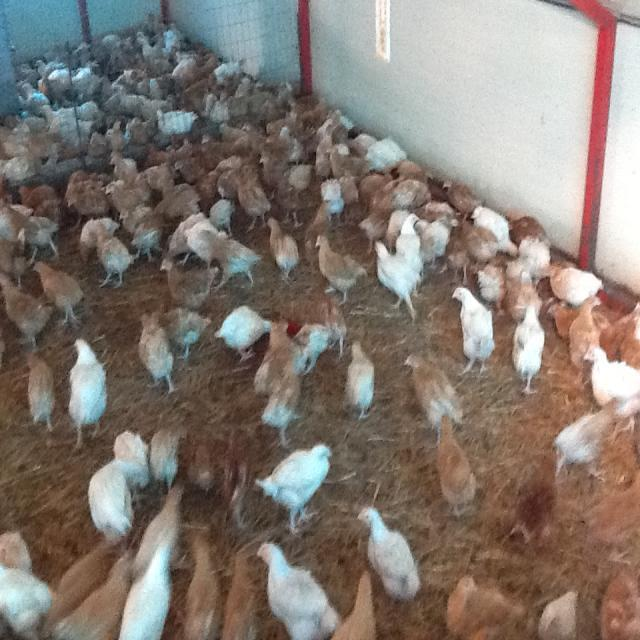poussin: (256, 540, 344, 636), (256, 442, 336, 534), (550, 397, 622, 488), (56, 556, 132, 640), (0, 528, 56, 640), (357, 506, 422, 602), (185, 434, 248, 526), (502, 453, 560, 551), (46, 536, 112, 622), (440, 573, 523, 640), (366, 180, 460, 236), (585, 342, 640, 434), (122, 544, 174, 640), (62, 332, 106, 442), (401, 354, 464, 429), (82, 464, 138, 544), (132, 482, 182, 571), (386, 214, 462, 272), (179, 537, 221, 640), (436, 412, 476, 520), (372, 239, 422, 322), (449, 286, 494, 376), (266, 347, 306, 447), (312, 232, 366, 306), (199, 230, 262, 292), (0, 274, 52, 346), (132, 313, 176, 396), (222, 542, 258, 640), (32, 259, 84, 326), (216, 308, 276, 366), (511, 302, 547, 396), (333, 565, 376, 640), (253, 315, 292, 397), (90, 222, 138, 288), (158, 259, 222, 307), (22, 351, 59, 434), (598, 568, 640, 638), (470, 200, 517, 260), (530, 586, 582, 640), (154, 308, 210, 358), (160, 213, 208, 270), (566, 296, 600, 374), (548, 297, 617, 335), (264, 216, 302, 284), (235, 164, 274, 229), (544, 262, 606, 302), (475, 245, 515, 307), (344, 342, 374, 421), (18, 204, 61, 258), (113, 429, 152, 485), (147, 428, 182, 489), (132, 210, 170, 266), (292, 322, 328, 379), (454, 216, 498, 262), (150, 184, 200, 224), (394, 212, 424, 278), (268, 172, 304, 226), (360, 135, 405, 176), (0, 241, 40, 286), (502, 271, 542, 316), (16, 180, 59, 220), (99, 178, 148, 213), (321, 298, 348, 361), (42, 122, 93, 154), (516, 235, 553, 279), (252, 77, 296, 114), (64, 186, 110, 221), (510, 213, 550, 252), (184, 222, 222, 263), (75, 212, 117, 249), (0, 116, 42, 152), (441, 176, 478, 216), (0, 147, 40, 184), (214, 154, 244, 202), (129, 30, 169, 66), (220, 116, 252, 160), (304, 200, 334, 246), (308, 104, 338, 148), (151, 136, 198, 164), (446, 240, 472, 290), (117, 202, 155, 236), (328, 146, 366, 180), (206, 196, 238, 236), (242, 122, 274, 162), (319, 174, 348, 218), (51, 99, 100, 125), (170, 52, 212, 82), (104, 80, 142, 113), (134, 91, 174, 121), (140, 160, 177, 192), (207, 56, 246, 85), (0, 205, 30, 242), (119, 63, 158, 91), (162, 24, 188, 66), (200, 132, 234, 164), (391, 155, 427, 185), (20, 81, 54, 112), (66, 64, 98, 96), (256, 148, 287, 181), (356, 168, 391, 197), (278, 122, 306, 158), (285, 158, 316, 190), (156, 108, 197, 132), (174, 156, 209, 184), (44, 63, 74, 95), (110, 151, 138, 184), (124, 109, 152, 142), (264, 118, 304, 140), (335, 174, 360, 208), (205, 90, 229, 125), (105, 116, 127, 152), (104, 34, 129, 62), (29, 57, 62, 77), (88, 126, 108, 157), (316, 132, 330, 172), (229, 93, 252, 114)
